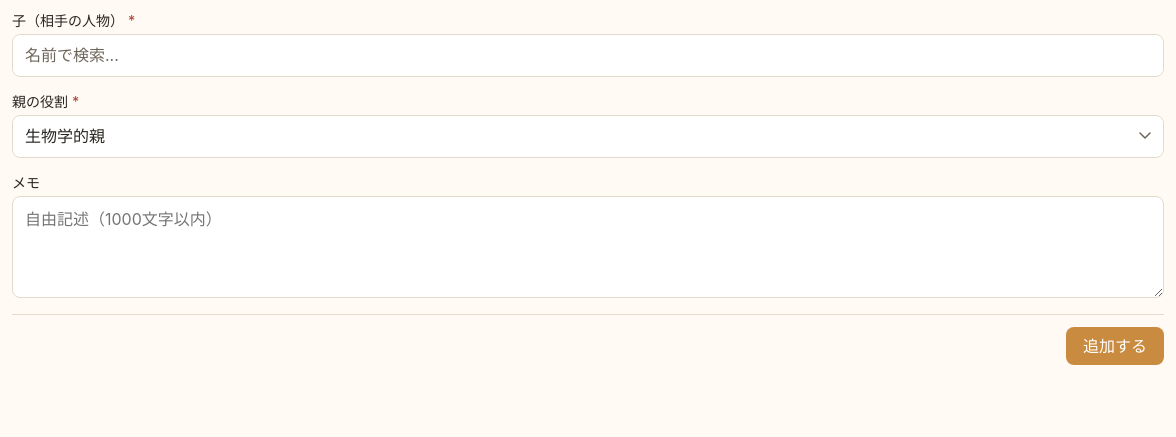
Scenario: PersonSearchCombobox › 該当なし → 「該当する人物が見つかりません」が表示される
Type "xxxxxxxxxx" into the field with placeholder "名前で検索...". click: (588, 55)
box: [13,34,1163,76]
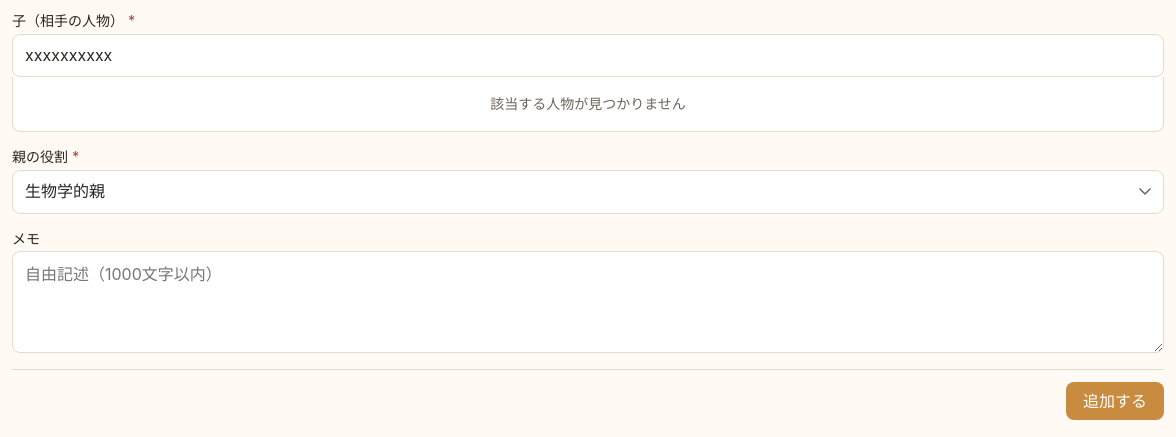
Now the text "該当する人物が見つかりません" is shown, box [12,77,1164,132]
